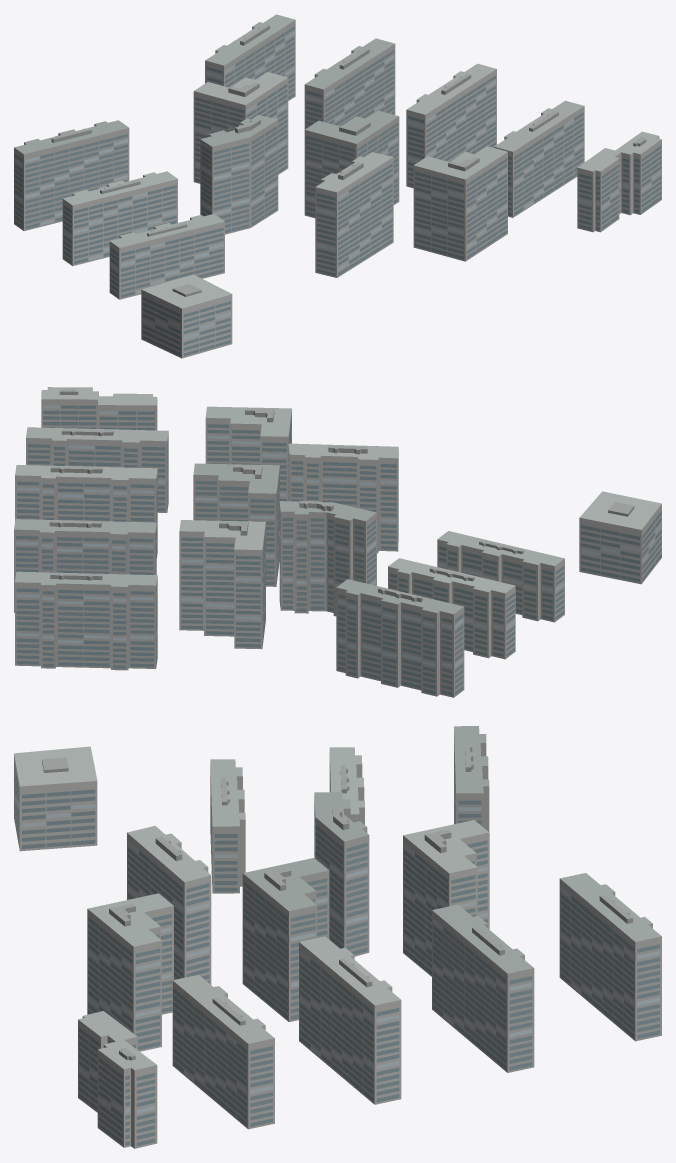
Rendered from apt-a15213005.glb.
3 views of the same model, one above another, from view 1: azimuth 30°, elevation 25°; view 2: azimuth 150°, elevation 25°; view 3: azimuth 270°, elevation 25° (orthographic). The views are drawn at different scales.
Parts seen in each view (by area): view 1: apt-a15213005; view 2: apt-a15213005; view 3: apt-a15213005.
Boxes of the visible parts, x1=… form: apt-a15213005: x1=14, y1=14, x2=661, y2=358; apt-a15213005: x1=14, y1=387, x2=661, y2=697; apt-a15213005: x1=14, y1=726, x2=661, y2=1148.
Size of the model in its own units: 299 by 51 by 243.
